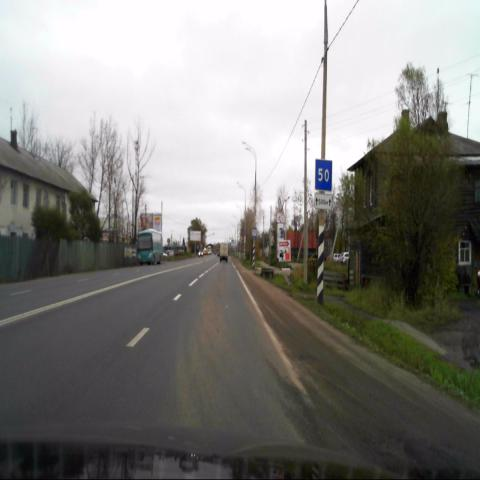6_2: (315, 159, 332, 191)
